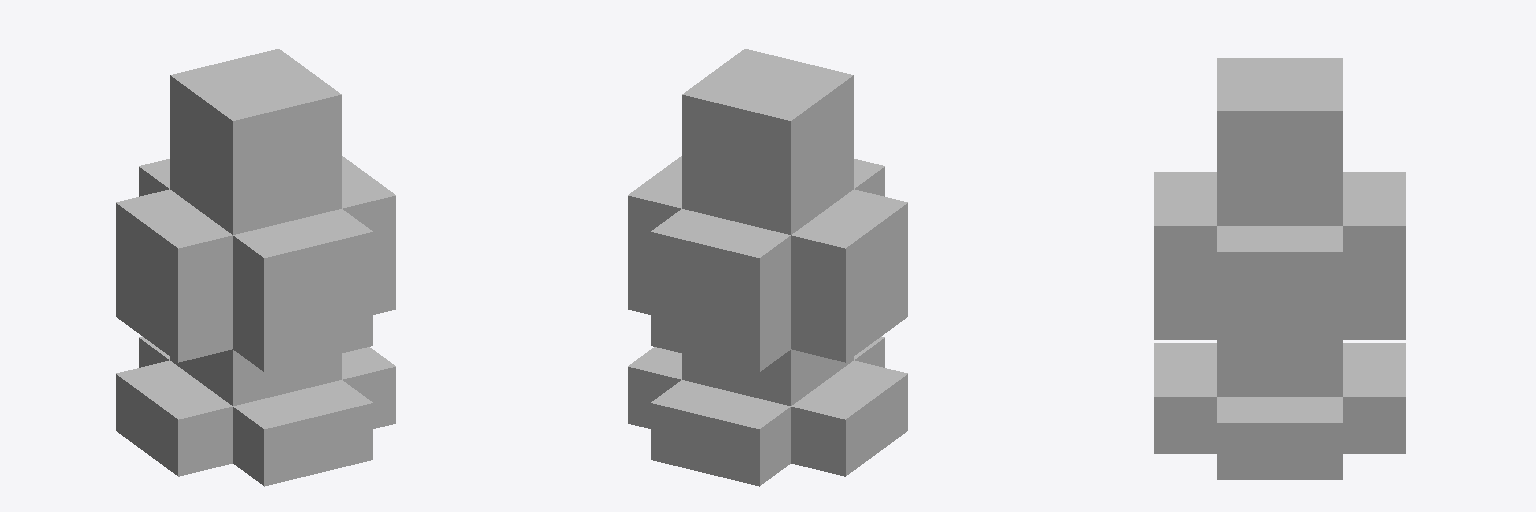
File: low_poly_tree.obj
3 renders of one model, left to right at view 1: azimuth 30°, elevation 25°; view 2: azimuth 150°, elevation 25°; view 3: azimuth 270°, elevation 25°, orthographic.
Parts seen in each view (by area): view 1: Cglink247_Duy_Xmas_Tree_0001; view 2: Cglink247_Duy_Xmas_Tree_0001; view 3: Cglink247_Duy_Xmas_Tree_0001.
Boxes of the visible parts, box(x1,y1,x2,y2) form: Cglink247_Duy_Xmas_Tree_0001: box(116, 49, 395, 486); Cglink247_Duy_Xmas_Tree_0001: box(628, 49, 907, 486); Cglink247_Duy_Xmas_Tree_0001: box(1154, 58, 1405, 479).
Size of the model in its own units: 4 by 6 by 4.